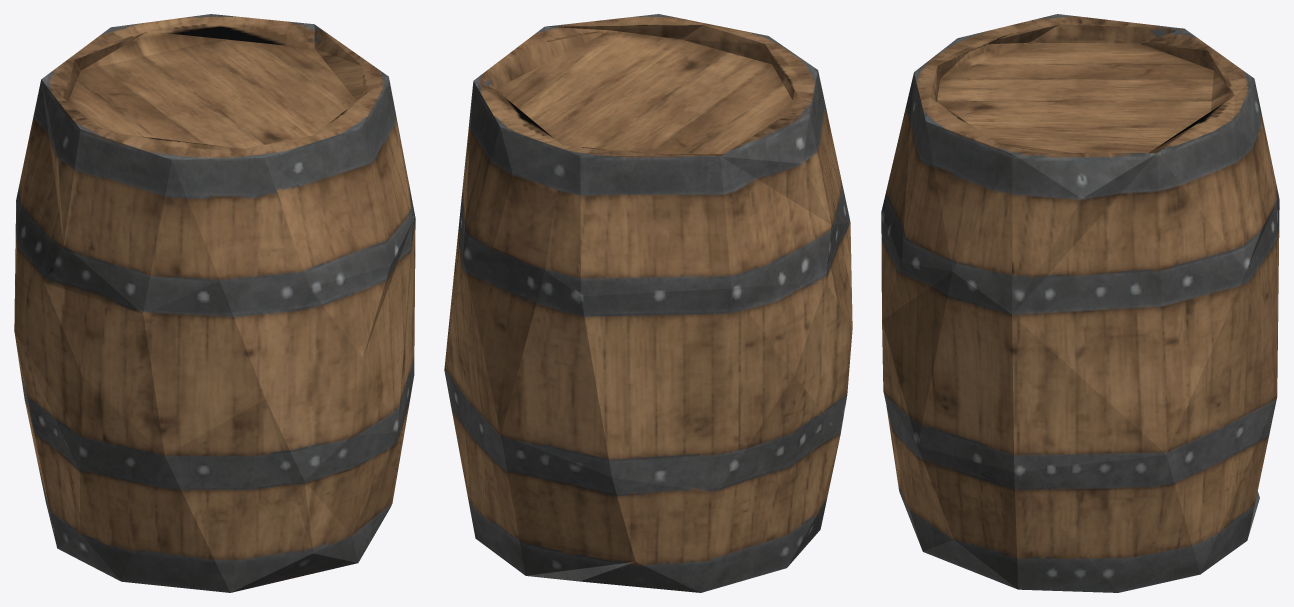
File: barrel_lod1.glb
3 renders of one model, left to right at view 1: azimuth 30°, elevation 25°; view 2: azimuth 150°, elevation 25°; view 3: azimuth 270°, elevation 25°, orthographic.
Parts seen in each view (by area): view 1: geometry_0; view 2: geometry_0; view 3: geometry_0.
Part boxes in pixels (bbox=[...]): geometry_0: bbox=[14, 14, 415, 592]; geometry_0: bbox=[444, 14, 852, 592]; geometry_0: bbox=[881, 14, 1279, 592].
Size of the model in its own units: 0.8637 by 1.07 by 0.88.
Materials: 1 (1 with a texture image).
